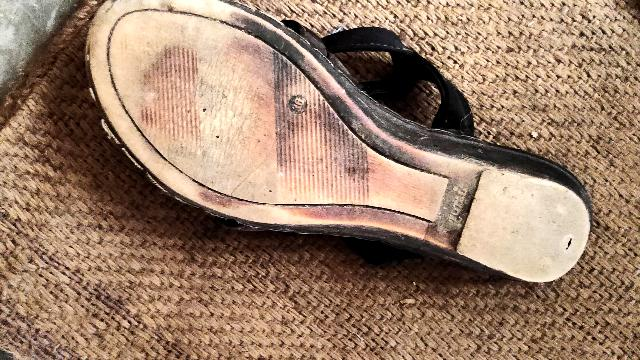sandal: (64, 0, 623, 298)
